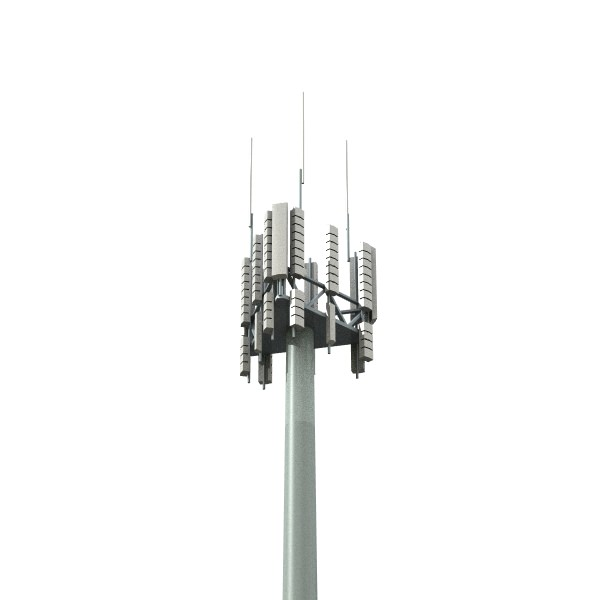a: (352, 239, 379, 382), (289, 206, 306, 341), (324, 221, 339, 356), (239, 252, 254, 386), (269, 200, 290, 291), (251, 229, 264, 356)
